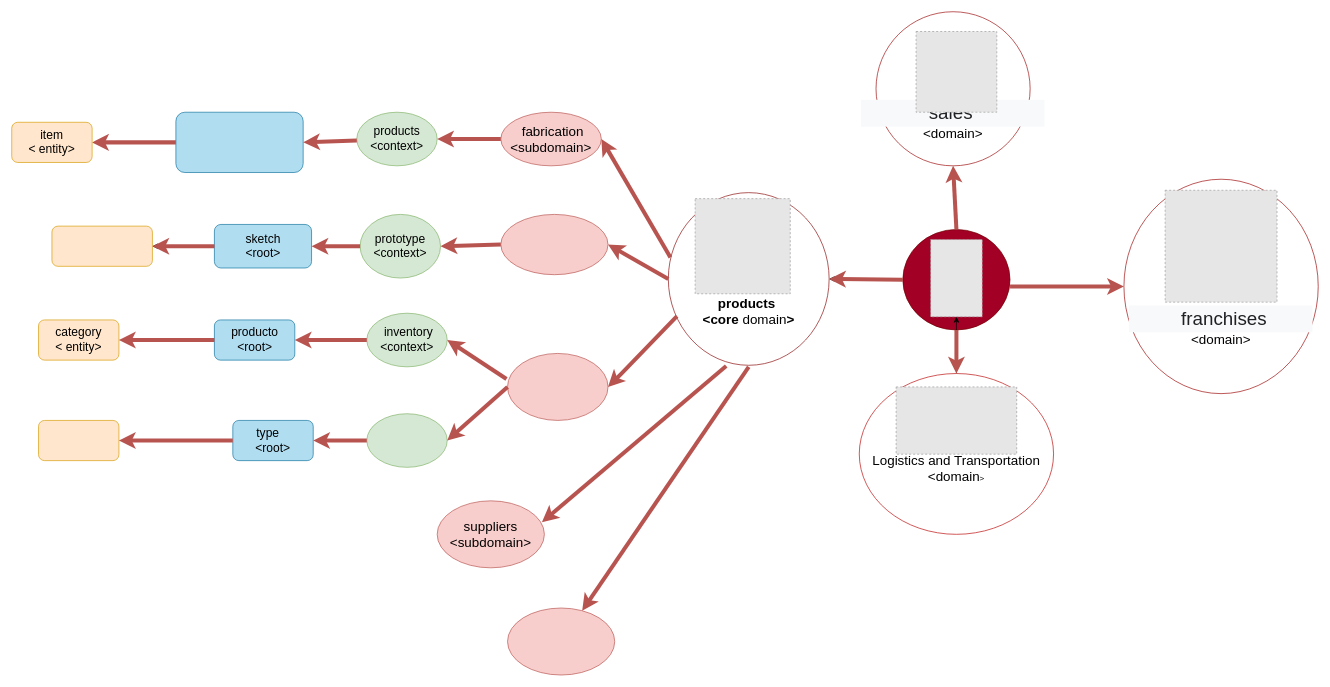
Some shapes in this 1330 by 687 pixel diagram are drawn without their labels. Grey dashed boxes stand in for pictures. The shapes that lost their labels are listed below. From the top down, each one's centre as x and y in pixels, then its label:
At (239,142): "productionOrder <root>".
At (101,245): "especification < entity>".
At (554,244): "design <subdomain>".
At (557,386): "warehouse <subdomain>".
At (78,440): "supplier < entity>".
At (406,440): "materials <context>".
At (561,641): "quality <subdomain>".
